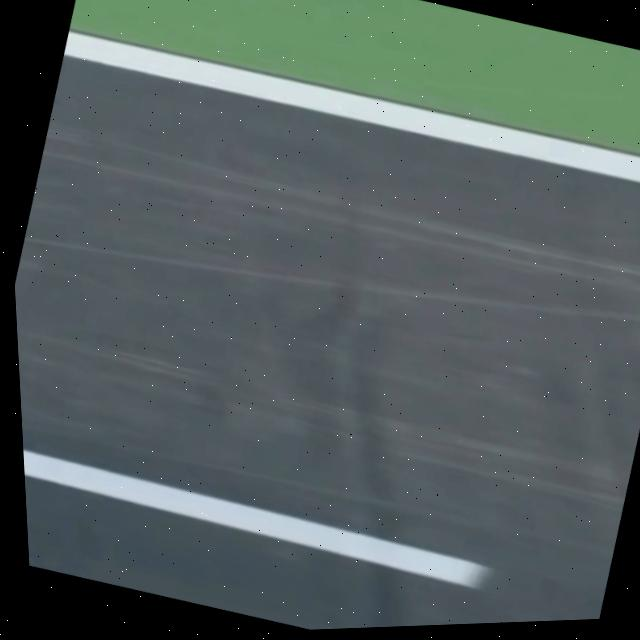center: (23, 450, 487, 588)
right: (62, 31, 640, 183)
